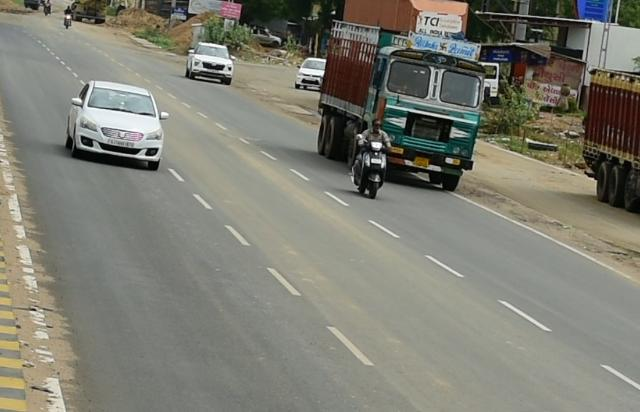Without Helmet: (371, 118, 381, 132)
